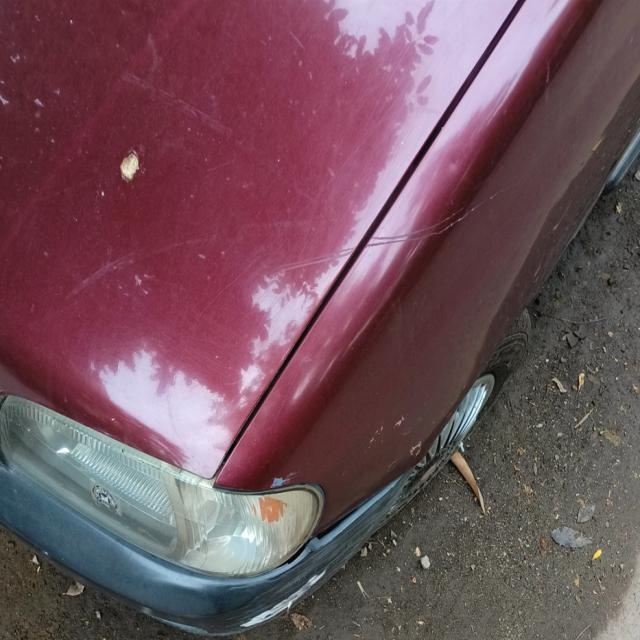scratch: (266, 182, 518, 276), (237, 566, 332, 630), (62, 243, 144, 309), (529, 197, 575, 292), (362, 410, 426, 473), (265, 465, 303, 493)
